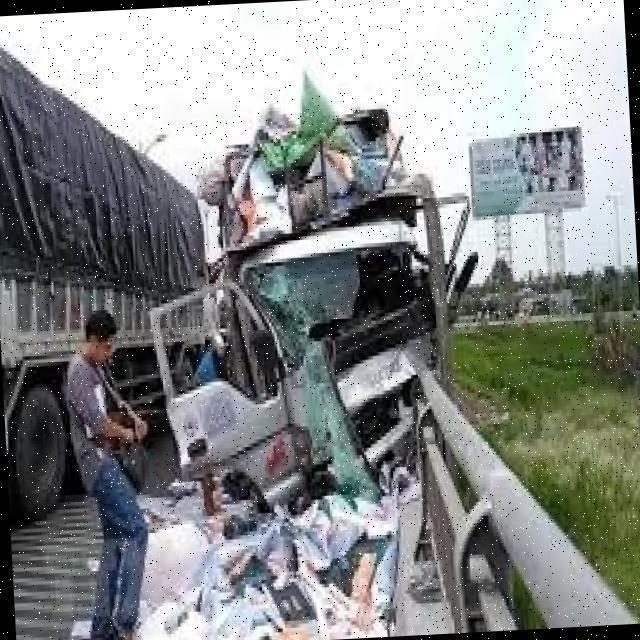accident: (133, 68, 497, 517)
